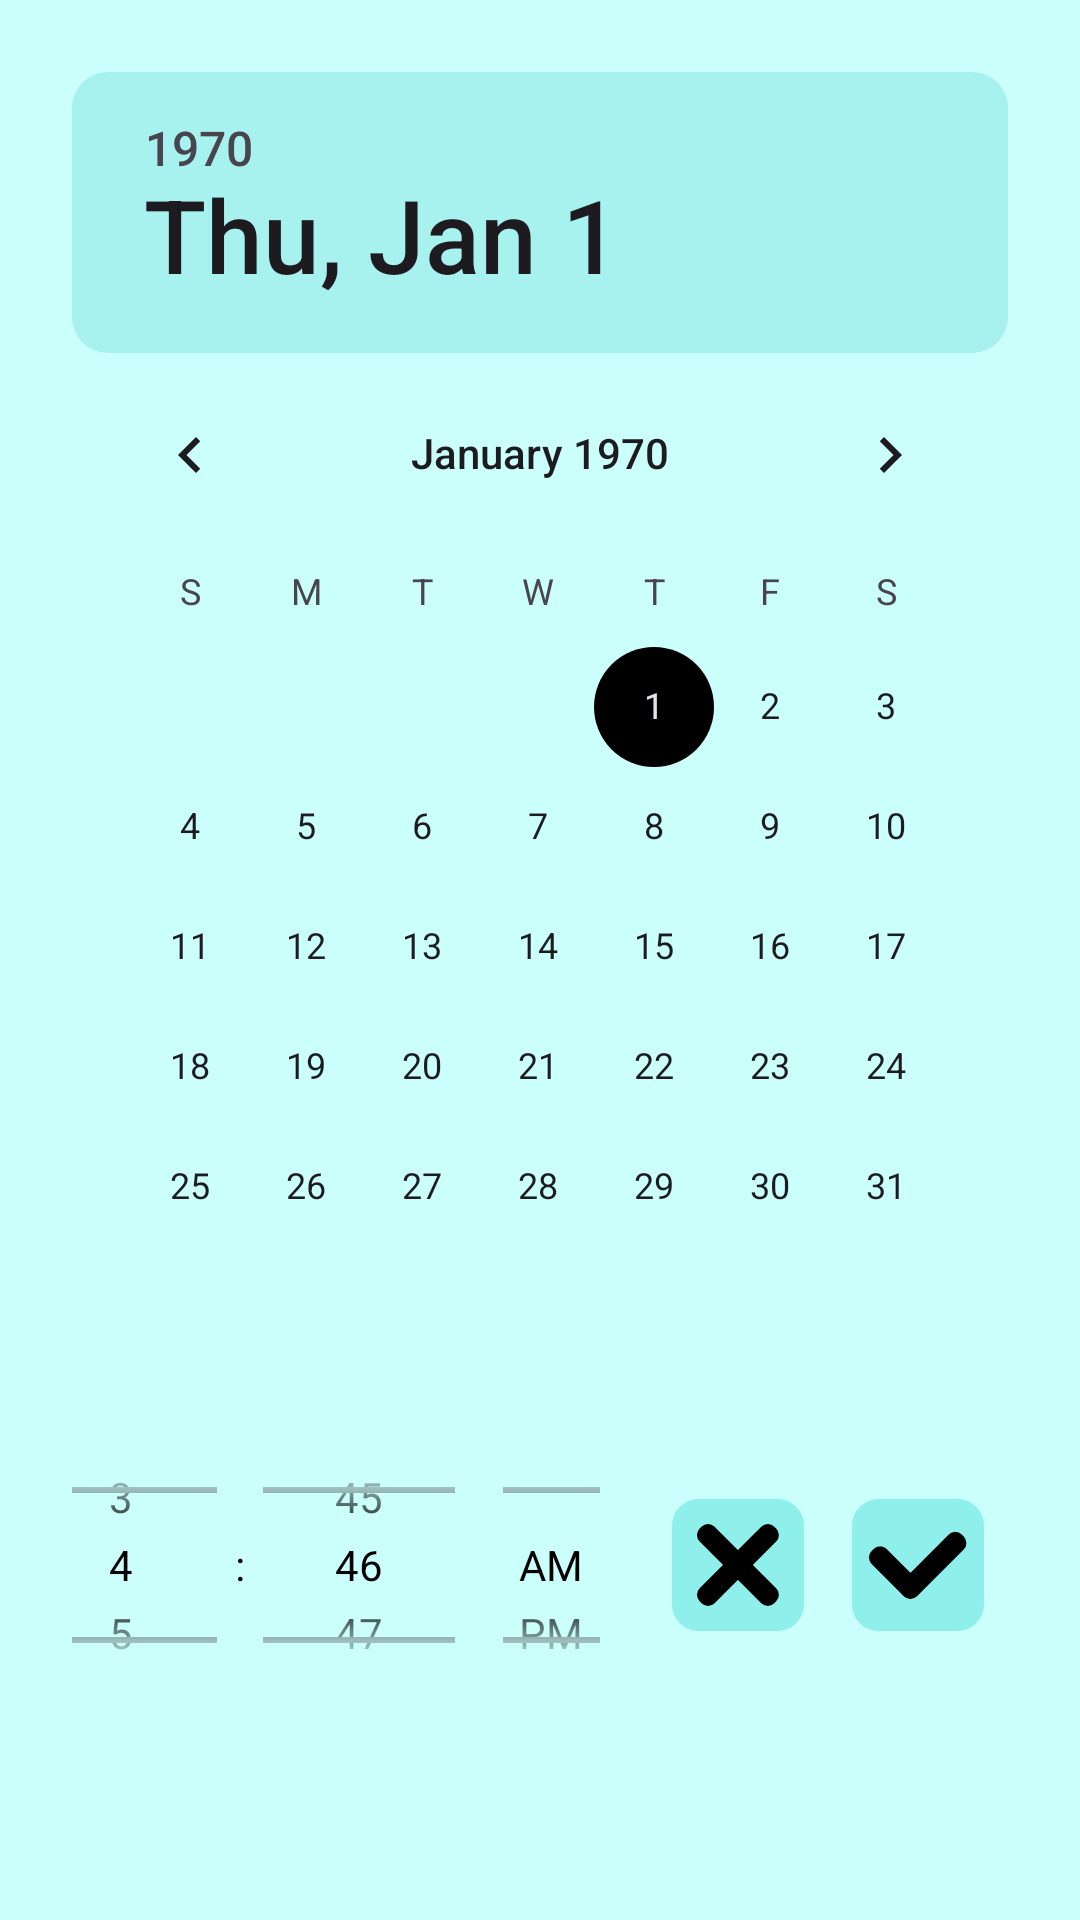

Screen size 1080×1920. Icon name, then its center in pixels as (x,y):
apply: (918,1565)
stop: (738,1565)
